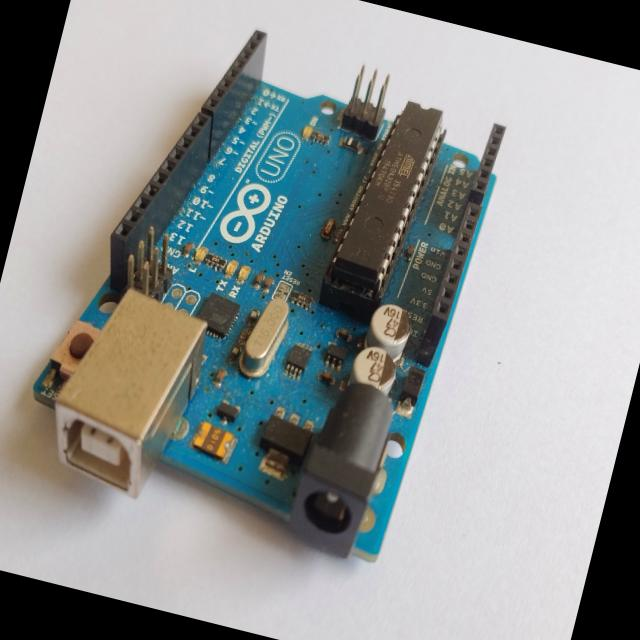arduino: (8, 0, 525, 589)
